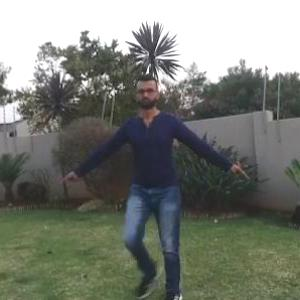land: (92, 92, 223, 254)
